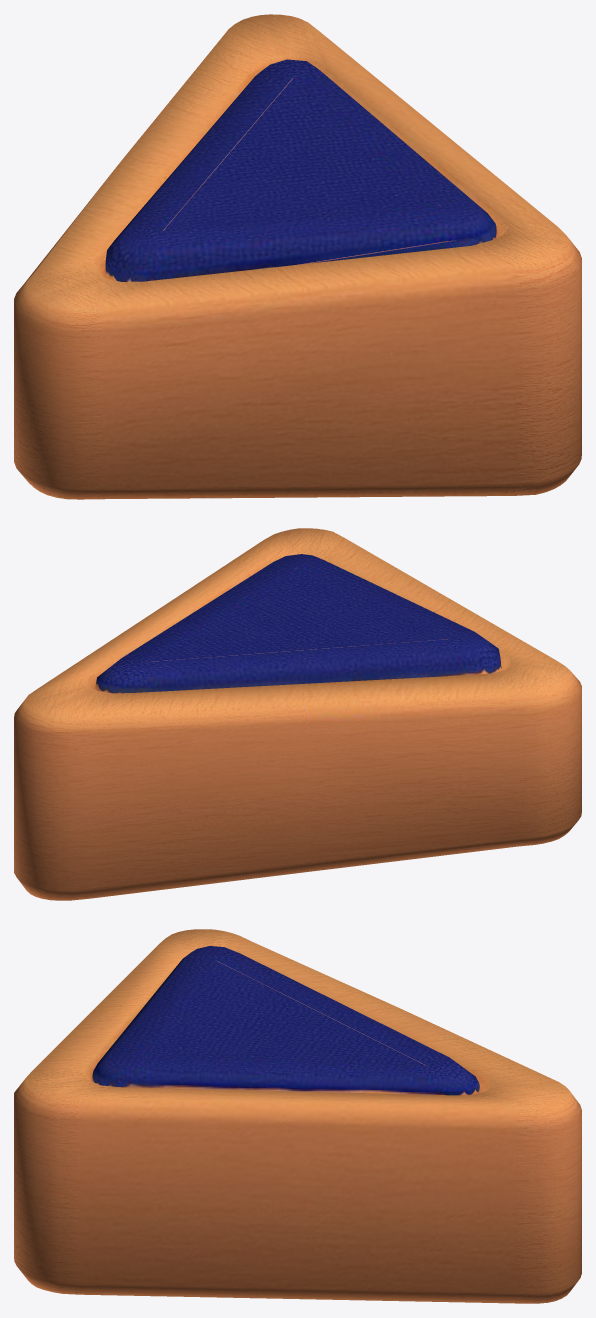
The model's file is cushion-blue.glb.
3 views of the same model, one above another, from view 1: azimuth 30°, elevation 25°; view 2: azimuth 150°, elevation 25°; view 3: azimuth 270°, elevation 25° (orthographic). The views are drawn at different scales.
Parts seen in each view (by area): view 1: tripo_node_5cd368f7-d7da-46c9-960c-e6c5d74818d6; view 2: tripo_node_5cd368f7-d7da-46c9-960c-e6c5d74818d6; view 3: tripo_node_5cd368f7-d7da-46c9-960c-e6c5d74818d6.
Boxes of the visible parts, x1,y1,x2,y2 form: tripo_node_5cd368f7-d7da-46c9-960c-e6c5d74818d6: (14, 14, 581, 499); tripo_node_5cd368f7-d7da-46c9-960c-e6c5d74818d6: (14, 528, 581, 900); tripo_node_5cd368f7-d7da-46c9-960c-e6c5d74818d6: (14, 929, 581, 1303).
Bounding box in the file's own units: 0.8462 × 0.3979 × 0.9995.
1 material, 1 textured.
